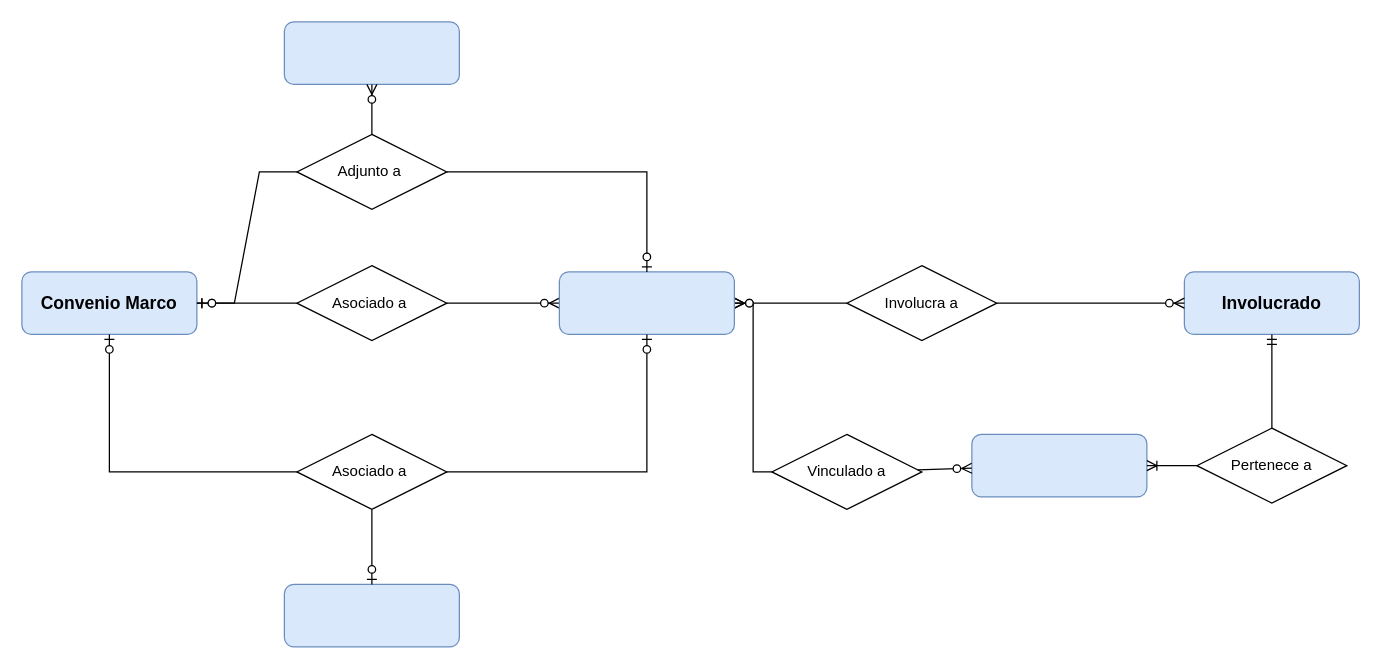
The diagram is 1381 pixels wide and 669 high, and some of its shapes have lost their labels. Here are the shapes that lost their labels. From the top down, the centre of each, then its label:
(x=371, y=52): Archivo Adjunto
(x=646, y=302): Convenio especifico
(x=1059, y=465): Área
(x=371, y=615): Empresa
